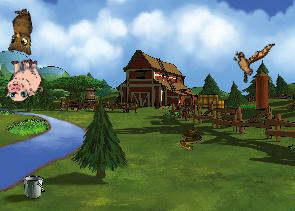eagle: (226, 32, 275, 88)
owl: (1, 7, 36, 58)
pig: (3, 58, 43, 101)
